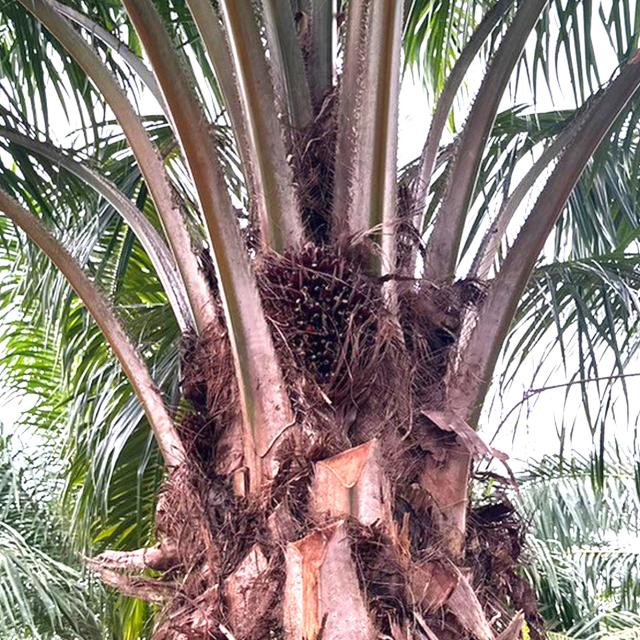ripe: (243, 226, 397, 400)
